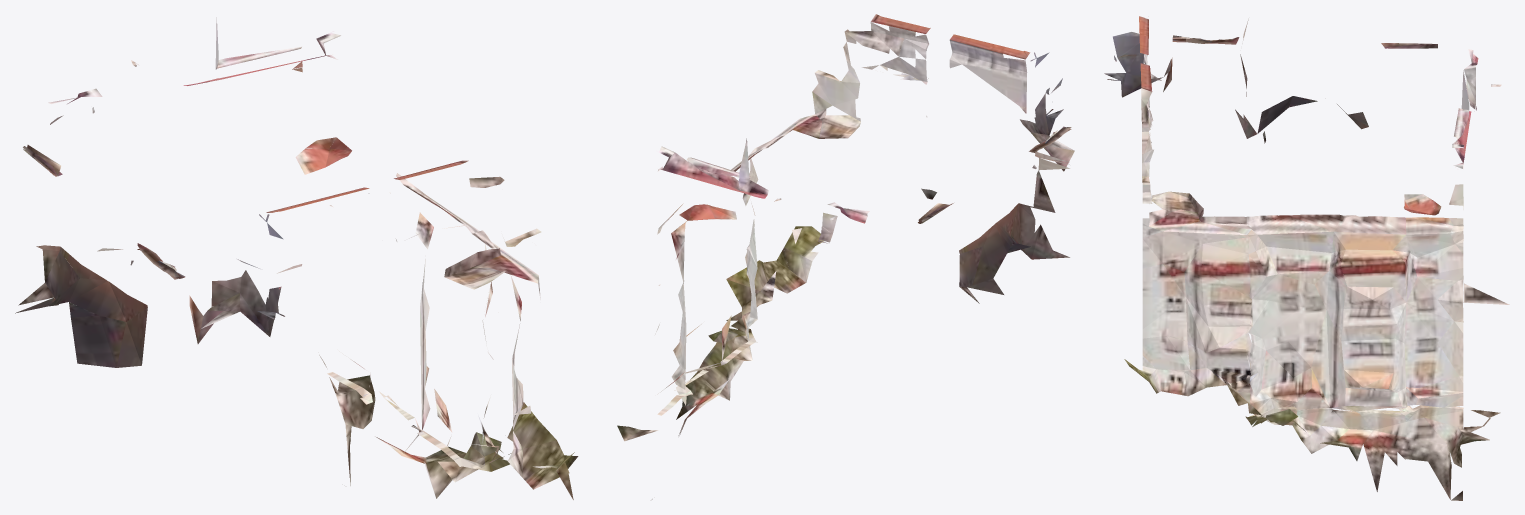
The model's file is hausoffen.glb.
The picture shows the model from 3 angles, left to right: view 1: azimuth 30°, elevation 25°; view 2: azimuth 150°, elevation 25°; view 3: azimuth 270°, elevation 25°; orthographic projection. The views are drawn at different scales.
Parts seen in each view (by area): view 1: haus0.002, haus1.002; view 2: haus0.002, haus1.002; view 3: haus0.002, haus1.002.
Part boxes in pixels (x1,y1,x2,y2): haus0.002: (15,17,578,499); haus1.002: (319,355,509,498); haus0.002: (655,14,1074,394); haus1.002: (617,328,757,499); haus0.002: (1104,16,1509,425); haus1.002: (1245,405,1500,500).
Size of the model in its own units: 27.69 by 29.48 by 28.28.
Materials: 3 (3 with a texture image).
